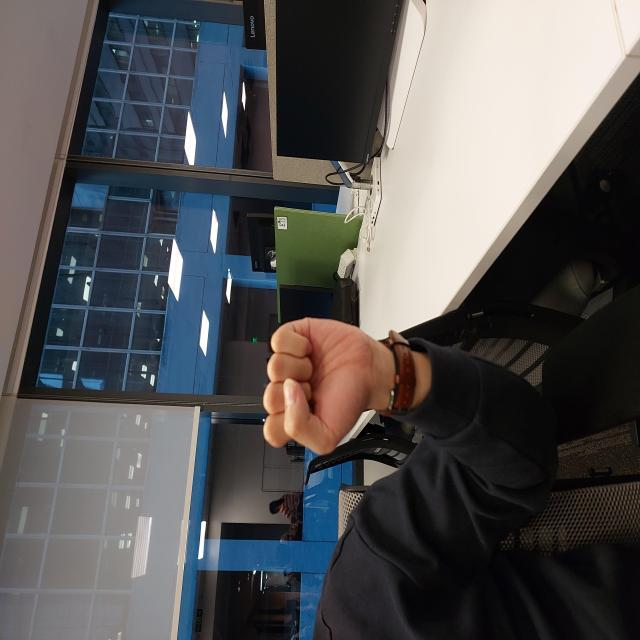S: (186, 263, 321, 370)
